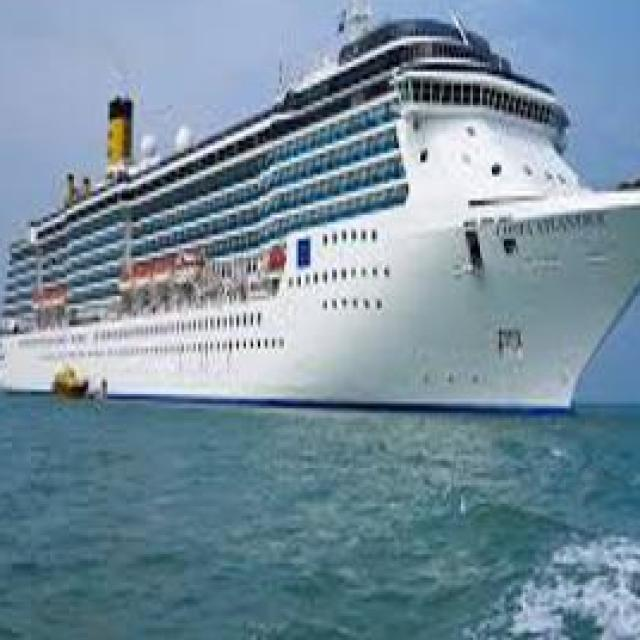houseboat: (44, 357, 108, 402)
passenger ship: (0, 0, 640, 411)
